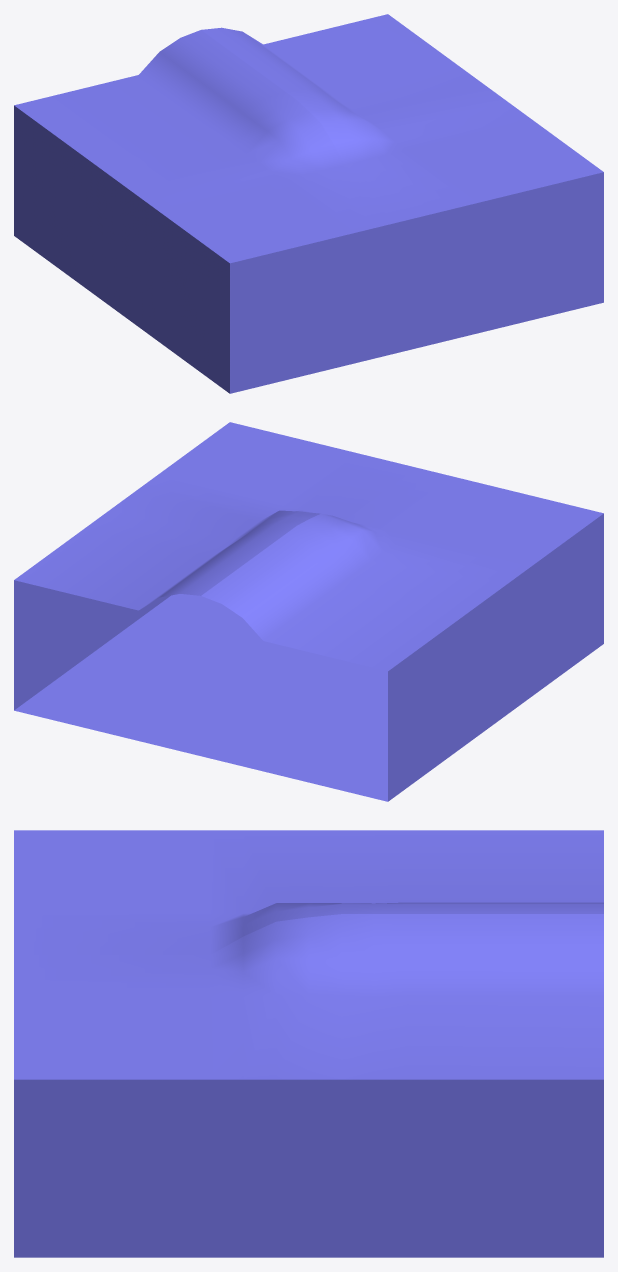
The model's file is true dead end.fbx.
3 renders of one model, top to bottom at view 1: azimuth 30°, elevation 25°; view 2: azimuth 150°, elevation 25°; view 3: azimuth 270°, elevation 25°, orthographic. The views are drawn at different scales.
Parts seen in each view (by area): view 1: pPlane9; view 2: pPlane9; view 3: pPlane9.
Part boxes in pixels (x1,y1,x2,y2): pPlane9: [14, 14, 603, 393]; pPlane9: [14, 422, 603, 801]; pPlane9: [14, 830, 603, 1257].
Bounding box in the file's own units: 1500 × 614 × 1500.
